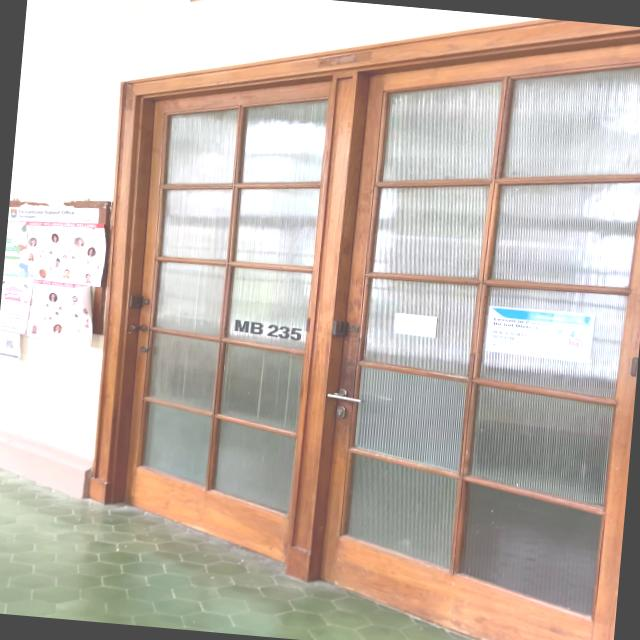room235Window: (226, 315, 310, 343)
